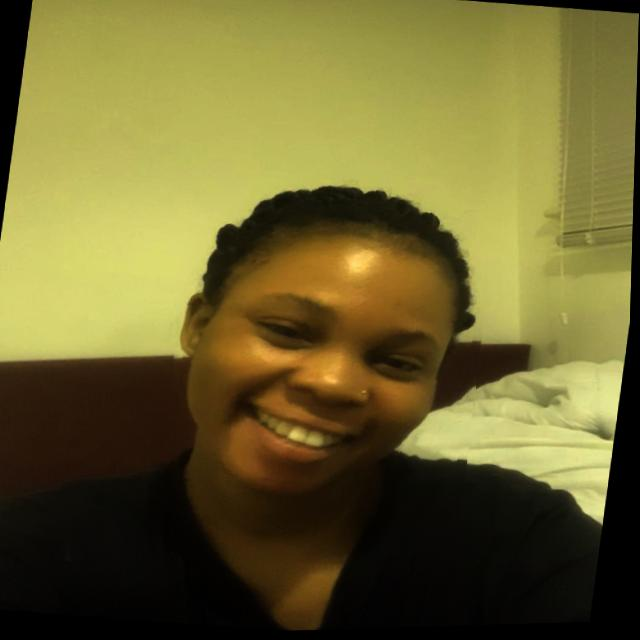happy: (154, 154, 505, 537)
